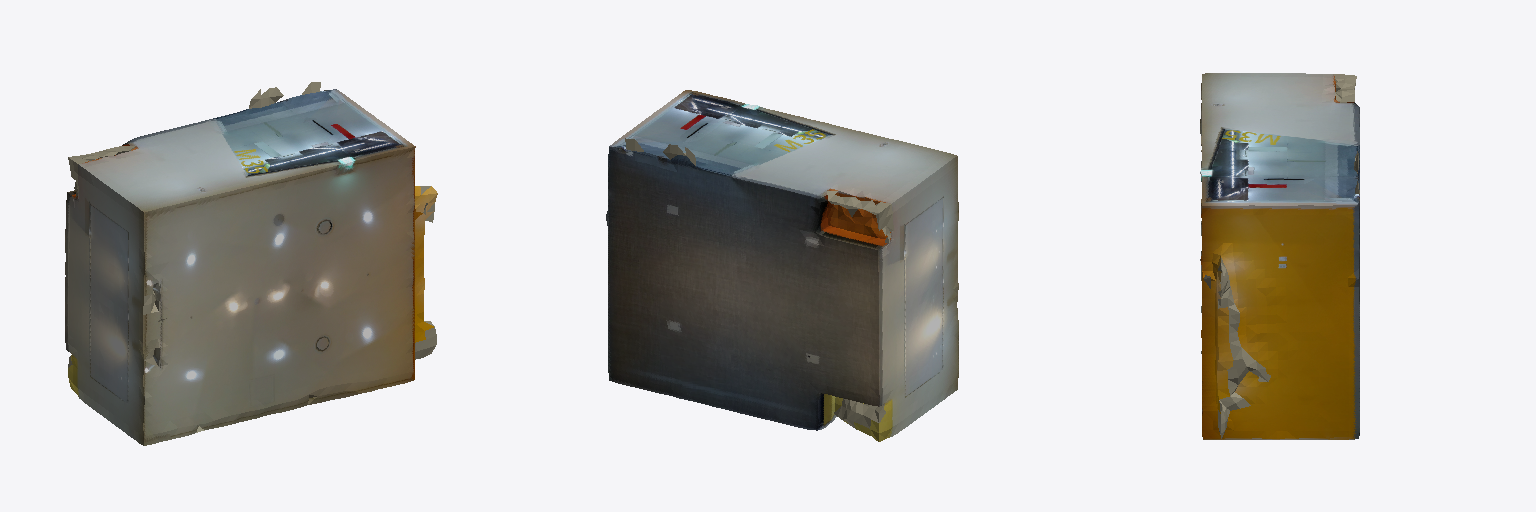
The picture shows the model from 3 angles: view 1: azimuth 30°, elevation 25°; view 2: azimuth 150°, elevation 25°; view 3: azimuth 270°, elevation 25°; orthographic projection.
Size of the model in its own units: 5174 by 4160 by 2362.
1 materials, 1 textured.